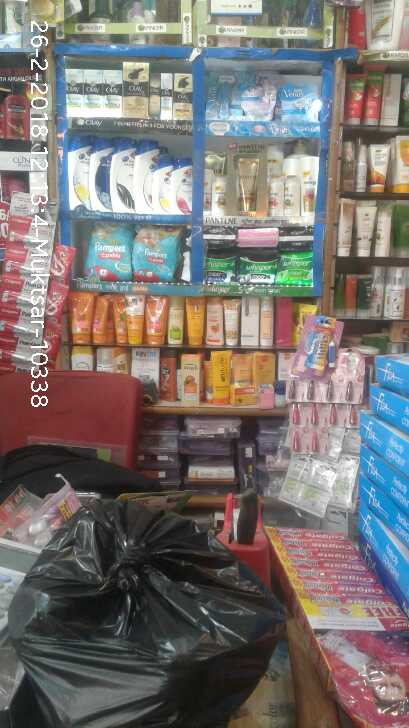venus: (275, 83, 323, 119), (206, 71, 243, 117), (243, 71, 275, 119)
